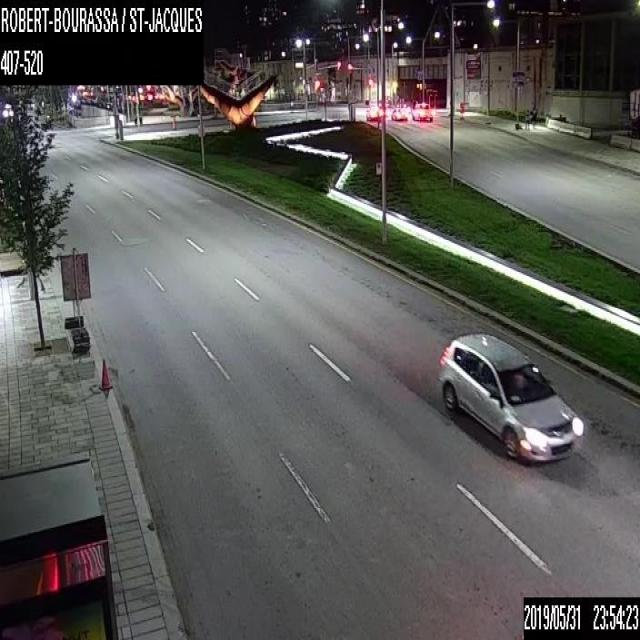construction: (101, 358, 111, 390), (456, 100, 463, 113)
vehicle: (434, 328, 584, 463), (409, 100, 433, 121), (389, 105, 406, 122), (365, 104, 382, 121)
